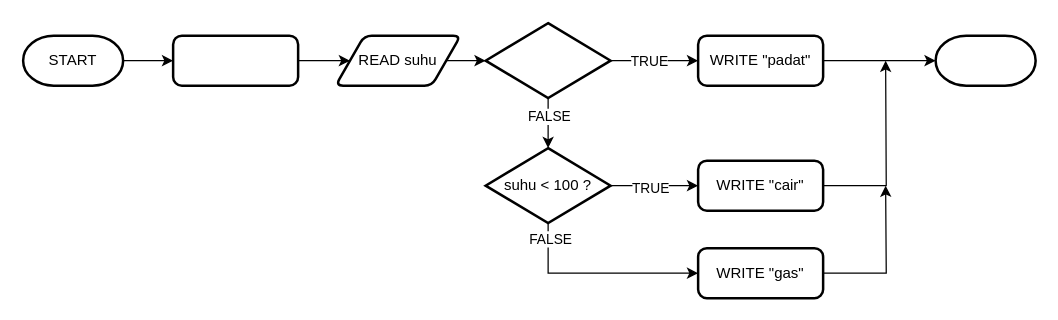
The diagram is 1058 pixels wide and 320 high, and some of its shapes have lost their labels. Here are the shapes that lost their labels. From the top down, the centre of each, then its label:
At [235,60]: "suhu: INTEGER".
At [547,60]: "suhu <= 0 ?".
At [985,60]: "STOP".
